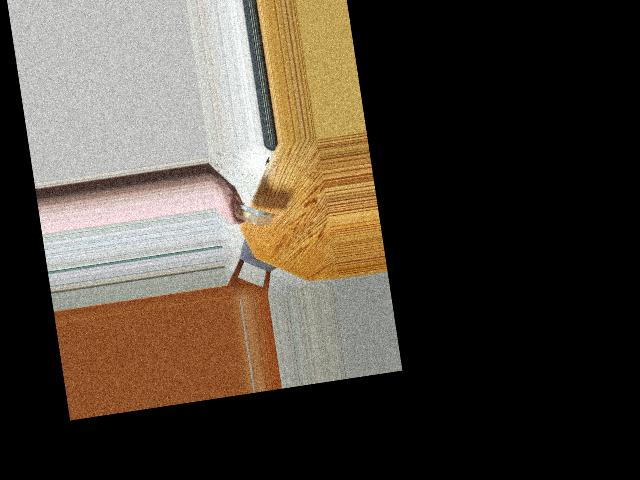cheese: (228, 199, 277, 231)
